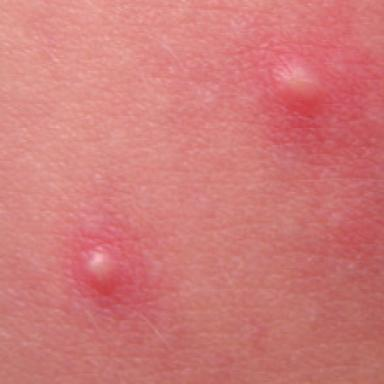acne: (274, 57, 324, 118), (85, 250, 119, 294)
